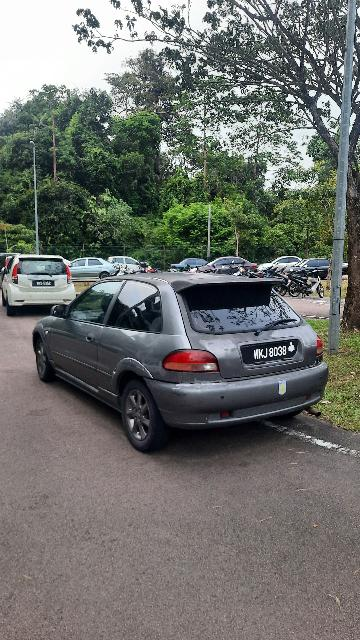License_Plate: (238, 340, 308, 369)
car: (26, 270, 330, 454)
